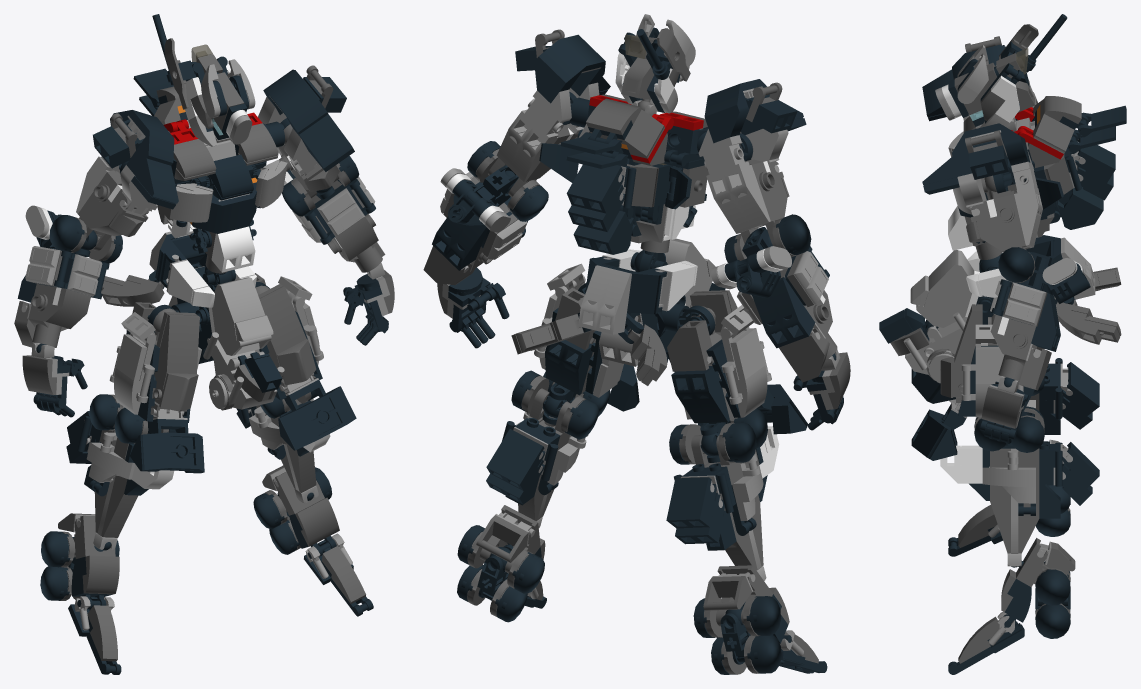
The model's file is sap-04d-hayabusa.dae.
The picture shows the model from 3 angles, left to right: view 1: azimuth 30°, elevation 25°; view 2: azimuth 150°, elevation 25°; view 3: azimuth 270°, elevation 25°; orthographic projection. The views are drawn at different scales.
Size of the model in its own units: 470 by 279 by 732.
